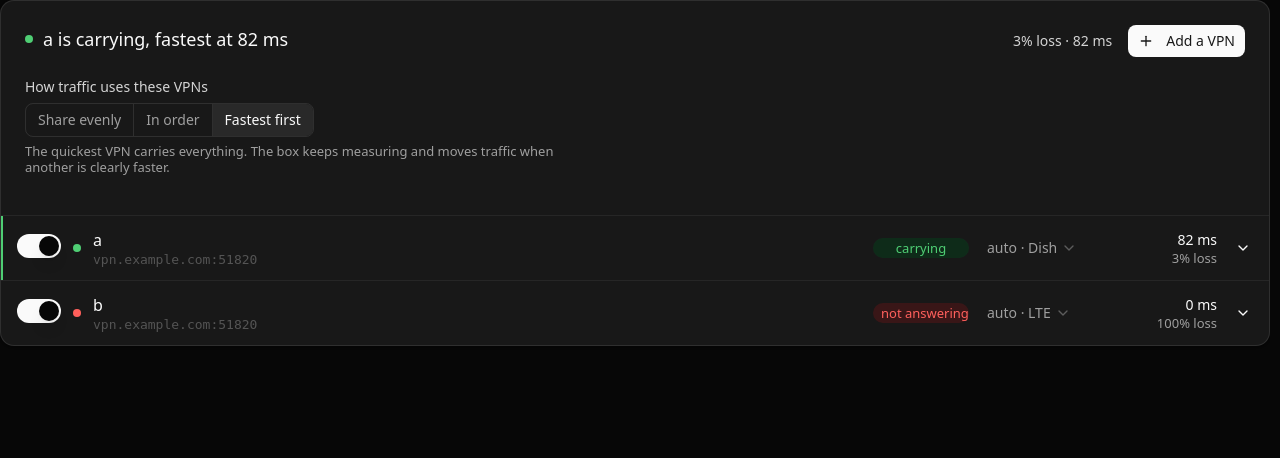
Test case: the via column › opens the dropdown on every row, not just the first
Click the dropdown named "Change b uplink" at (1053, 313), box [981,295,1125,331]
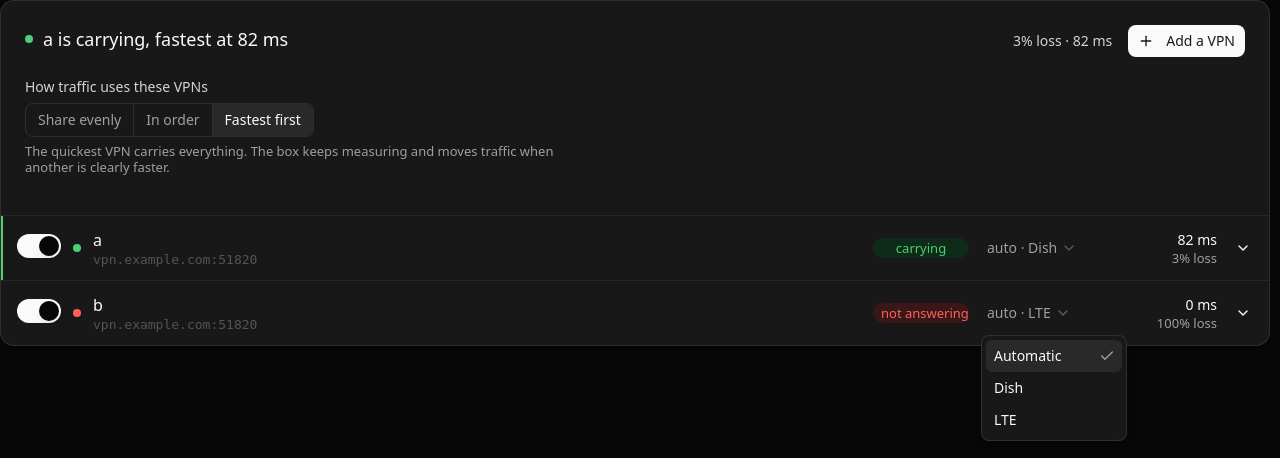
Result: the number of options is 3 at [986,340,1122,372]; [994,378,1023,397]; [994,410,1017,429]
Result: the element showing "Automatic Dish LTE" is shown at [981,331,1127,437]
